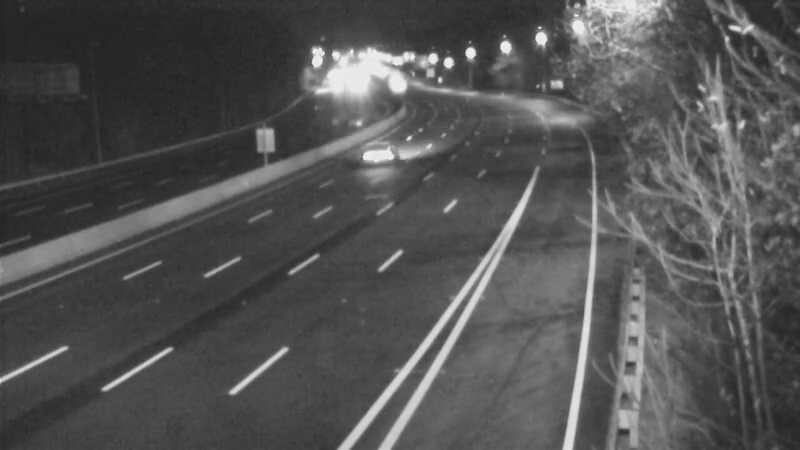vehicle: (332, 120, 412, 200)
